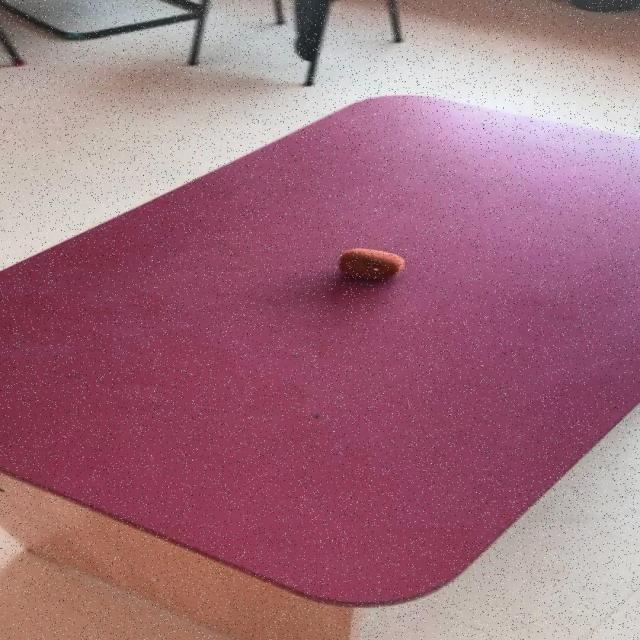Kiwi: (336, 248, 405, 280)
